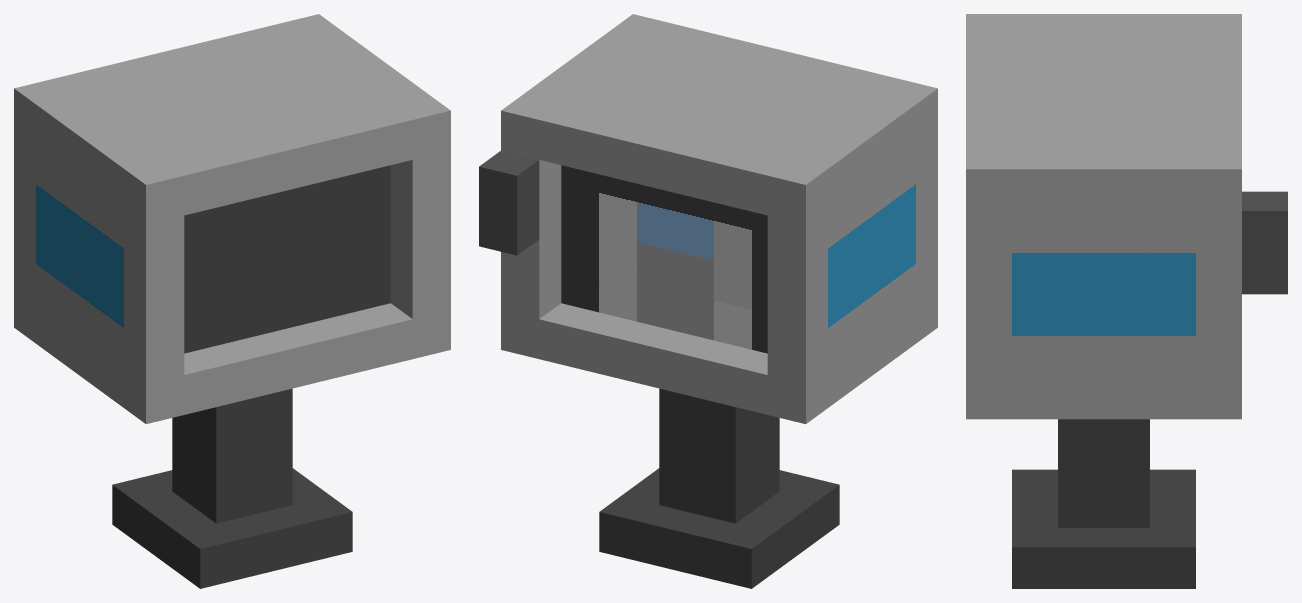
Rendered from obj_newsbox1.fbx.
3 views of the same model, side by side, from view 1: azimuth 30°, elevation 25°; view 2: azimuth 150°, elevation 25°; view 3: azimuth 270°, elevation 25° (orthographic). The views are drawn at different scales.
Parts seen in each view (by area): view 1: obj_newsbox1; view 2: obj_newsbox1; view 3: obj_newsbox1.
Part boxes in pixels (x1,y1,x2,y2): obj_newsbox1: (14,14,450,588); obj_newsbox1: (479,14,937,588); obj_newsbox1: (966,14,1287,588).
Size of the model in its own units: 0.8 by 0.7 by 1.1.
Materials: 1 (1 with a texture image).
